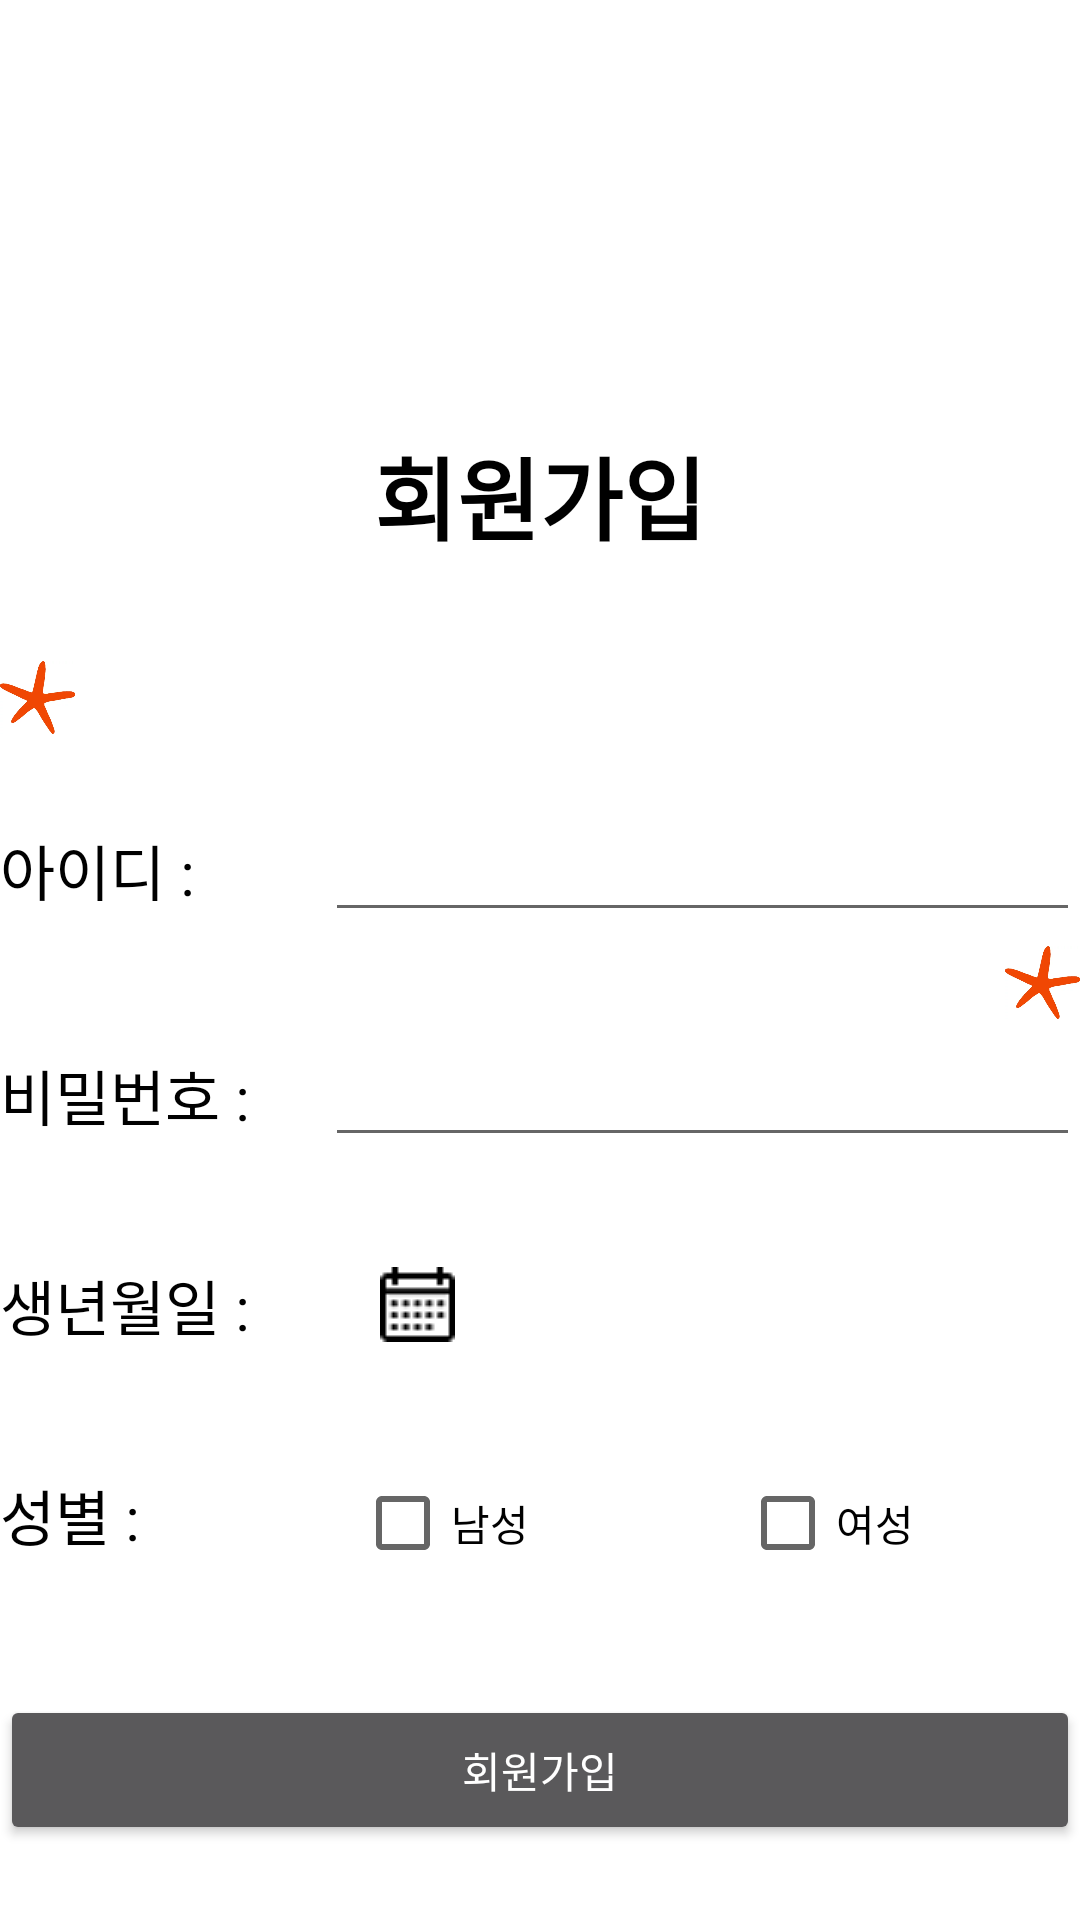

Point at icon controls on the screen. Image size 1080*1920, points as (x,y).
calendar: (417,1304)
starfish: (37,697), (1042,982)
